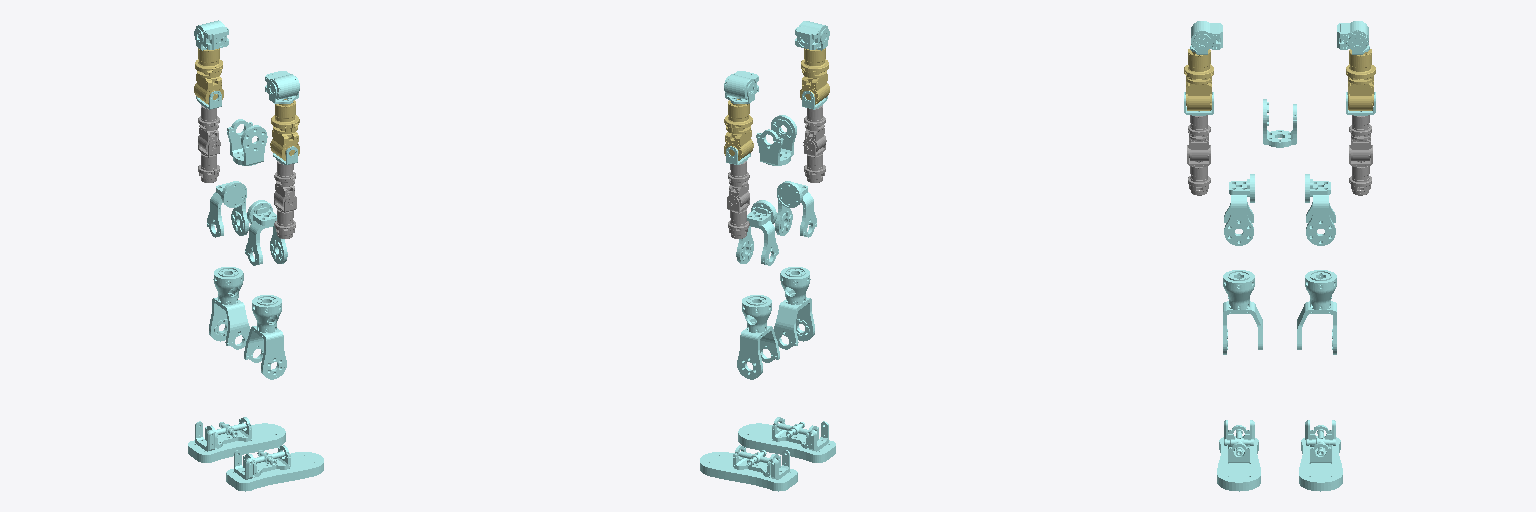
--- Render facts (derived) ---
The picture shows the robot from 3 angles, left to right: view 1: azimuth 30°, elevation 25°; view 2: azimuth 150°, elevation 25°; view 3: azimuth 270°, elevation 25°; orthographic projection.
Robot: ymboy-23dof — 25 links, 24 joints (23 revolute, 1 fixed); root link pelvis; default pose: every joint at zero.
Links seen in each view (by area): view 1: right_ankle_roll_link, left_ankle_roll_link, right_hip_yaw_link, left_hip_yaw_link, left_hip_pitch_link, right_hip_pitch_link, right_wrist_yaw_link, left_wrist_yaw_link, waist_yaw_link, right_shoulder_yaw_link, left_shoulder_yaw_link, right_shoulder_pitch_link (+1 smaller); view 2: left_ankle_roll_link, right_ankle_roll_link, left_hip_yaw_link, right_hip_yaw_link, right_hip_pitch_link, left_hip_pitch_link, left_wrist_yaw_link, waist_yaw_link, right_wrist_yaw_link, left_shoulder_yaw_link, right_shoulder_yaw_link, right_shoulder_pitch_link (+1 smaller); view 3: left_ankle_roll_link, right_ankle_roll_link, left_hip_yaw_link, right_hip_yaw_link, left_hip_pitch_link, right_hip_pitch_link, left_wrist_yaw_link, right_wrist_yaw_link, left_shoulder_yaw_link, right_shoulder_yaw_link, waist_yaw_link, left_shoulder_pitch_link (+1 smaller).
Link boxes in pixels (<box>): right_ankle_roll_link: <box>226,445,323,491</box>; left_ankle_roll_link: <box>188,417,285,462</box>; right_hip_yaw_link: <box>244,295,286,379</box>; left_hip_yaw_link: <box>209,267,249,349</box>; left_hip_pitch_link: <box>207,181,248,237</box>; right_hip_pitch_link: <box>245,200,287,265</box>; right_wrist_yaw_link: <box>274,161,296,238</box>; left_wrist_yaw_link: <box>198,105,220,182</box>; waist_yaw_link: <box>227,119,267,165</box>; right_shoulder_yaw_link: <box>270,99,299,160</box>; left_shoulder_yaw_link: <box>194,48,223,104</box>; right_shoulder_pitch_link: <box>265,71,298,99</box>; left_ankle_roll_link: <box>700,445,797,491</box>; right_ankle_roll_link: <box>738,417,835,462</box>; left_hip_yaw_link: <box>737,295,779,379</box>; right_hip_yaw_link: <box>774,267,814,349</box>; right_hip_pitch_link: <box>775,181,816,237</box>; left_hip_pitch_link: <box>736,200,778,265</box>; left_wrist_yaw_link: <box>727,161,749,238</box>; waist_yaw_link: <box>756,115,796,165</box>; right_wrist_yaw_link: <box>803,105,826,182</box>; left_shoulder_yaw_link: <box>724,99,753,160</box>; right_shoulder_yaw_link: <box>800,48,829,104</box>; right_shoulder_pitch_link: <box>795,21,827,49</box>; left_ankle_roll_link: <box>1299,420,1342,491</box>; right_ankle_roll_link: <box>1217,420,1260,491</box>; left_hip_yaw_link: <box>1297,270,1336,354</box>; right_hip_yaw_link: <box>1223,270,1262,354</box>; left_hip_pitch_link: <box>1305,174,1335,245</box>; right_hip_pitch_link: <box>1224,174,1254,245</box>; left_wrist_yaw_link: <box>1349,115,1372,195</box>; right_wrist_yaw_link: <box>1187,115,1210,195</box>; left_shoulder_yaw_link: <box>1346,49,1375,110</box>; right_shoulder_yaw_link: <box>1184,49,1213,110</box>; waist_yaw_link: <box>1263,99,1296,147</box>; left_shoulder_pitch_link: <box>1337,21,1368,49</box>.
Bounding box of the posed robot: 0.248 × 0.4335 × 1.09 m (x, y, z).
19 mesh visuals loaded from 25 distinct referenced files (19 binary STL); not drawn: 6 (reference not matched to a file when rendering).

robot.urdf — ymboy-23dof:
<?xml version="1.0" encoding="utf-8"?>
<robot
  name="ymboy-23dof">
  <!-- <mujoco>
    <compiler meshdir="../meshes" discardvisual="false"/>
  </mujoco>

  <link name="base_footprint_link" />
  <joint name="base_footprint_joint" type="floating">
    <parent link="base_footprint_link" />
    <child link="pelvis" />
    <origin xyz="0 0 0" rpy="0 0 0"/>
  </joint> -->
  <link
    name="pelvis">
    <inertial>
      <origin
        xyz="-3.3339E-05 -1.0813E-06 0.091155"
        rpy="0 0 0" />
      <mass
        value="2.8438" />
      <inertia
        ixx="0.01047867"
        ixy="-8E-08"
        ixz="3.95E-06"
        iyy="0.00941324"
        iyz="1.3E-07"
        izz="0.00564707" />
    </inertial>
    <visual>
      <origin
        xyz="0 0 0"
        rpy="0 0 0" />
      <geometry>
        <mesh
          filename="../meshes/pelvis.STL" />
      </geometry>
      <material
        name="">
        <color
          rgba="0.75294 1 1 1" />
      </material>
    </visual>
    <collision>
      <origin
        xyz="0 0 0"
        rpy="0 0 0" />
      <geometry>
        <mesh
          filename="../meshes/pelvis.STL" />
      </geometry>
    </collision>
  </link>
  <link
    name="left_hip_pitch_link">
    <inertial>
      <origin
        xyz="0.0026859 0.030181 -0.038307"
        rpy="0 0 0" />
      <mass
        value="0.47307" />
      <inertia
        ixx="0.00092108"
        ixy="-8.03E-06"
        ixz="8.425E-05"
        iyy="0.00111312"
        iyz="0.0001145"
        izz="0.00048142" />
    </inertial>
    <visual>
      <origin
        xyz="0 0 0"
        rpy="0 0 0" />
      <geometry>
        <mesh
          filename="../meshes/left_hip_pitch_link.STL" />
      </geometry>
      <material
        name="">
        <color
          rgba="0.75294 1 1 1" />
      </material>
    </visual>
    <collision>
      <origin
        xyz="0 0 0"
        rpy="0 0 0" />
      <geometry>
        <mesh
          filename="../meshes/left_hip_pitch_link.STL" />
      </geometry>
    </collision>
  </link>
  <joint
    name="left_hip_pitch_joint"
    type="revolute">
    <origin
      xyz="0 0.056 0.0605"
      rpy="0 0 0" />
    <parent
      link="pelvis" />
    <child
      link="left_hip_pitch_link" />
    <axis
      xyz="0 1 0" />
    <limit
      lower="-2.5"
      upper="2.5"
      effort="94"
      velocity="14" />
  </joint>
  <link
    name="left_hip_roll_link">
    <inertial>
      <origin
        xyz="0.00077985 -7.5152E-06 -0.043617"
        rpy="0 0 0" />
      <mass
        value="1.7024" />
      <inertia
        ixx="0.00593201"
        ixy="-2.4E-07"
        ixz="7.611E-05"
        iyy="0.00560799"
        iyz="-2.1E-07"
        izz="0.00196237" />
    </inertial>
    <visual>
      <origin
        xyz="0 0 0"
        rpy="0 0 0" />
      <geometry>
        <mesh
          filename="../meshes/left_hip_roll_link.STL" />
      </geometry>
      <material
        name="">
        <color
          rgba="0.69804 0.69804 0.69804 1" />
      </material>
    </visual>
    <collision>
      <origin
        xyz="0 0 0"
        rpy="0 0 0" />
      <geometry>
        <mesh
          filename="../meshes/left_hip_roll_link.STL" />
      </geometry>
    </collision>
  </link>
  <joint
    name="left_hip_roll_joint"
    type="revolute">
    <origin
      xyz="0 0.0365 -0.092"
      rpy="0 0 0" />
    <parent
      link="left_hip_pitch_link" />
    <child
      link="left_hip_roll_link" />
    <axis
      xyz="1 0 0" />
    <limit
      lower="-0.5"
      upper="2.5"
      effort="94"
      velocity="14" />
  </joint>
  <link
    name="left_hip_yaw_link">
    <inertial>
      <origin
        xyz="0 -0.00015530 -0.13796729"
        rpy="0 0 0" />
      <mass
        value="2.07306400" />
      <inertia
        ixx="0.00653494"
        ixy="-0.00000002"
        ixz="0.00000002"
        iyy="0.00728062"
        iyz="0.00004153"
        izz="0.00248648" />
    </inertial>
    <visual>
      <origin
        xyz="0 0 0"
        rpy="0 0 0" />
      <geometry>
        <mesh
          filename="../meshes/left_hip_yaw_link.STL" />
      </geometry>
      <material
        name="">
        <color
          rgba="0.75294 1 1 1" />
      </material>
    </visual>
    <collision>
      <origin
        xyz="0 0 0"
        rpy="0 0 0" />
      <geometry>
        <mesh
          filename="../meshes/left_hip_yaw_link.STL" />
      </geometry>
    </collision>
  </link>
  <joint
    name="left_hip_yaw_joint"
    type="revolute">
    <origin
      xyz="0.00175 0 -0.1245"
      rpy="0 0 0" />
    <parent
      link="left_hip_roll_link" />
    <child
      link="left_hip_yaw_link" />
    <axis
      xyz="0 0 1" />
    <limit
      lower="-2.5"
      upper="2.5"
      effort="60"
      velocity="14" />
  </joint>
  <link
    name="left_knee_link">
    <inertial>
      <origin
        xyz="-0.00490708 0.00049315 -0.15001952"
        rpy="0 0 0" />
      <mass
        value="1.48182604" />
      <inertia
        ixx="0.00527891"
        ixy="0.00003754"
        ixz="-0.00021876"
        iyy="0.00533391"
        iyz="-0.00019421"
        izz="0.00162094" />
    </inertial>
    <visual>
      <origin
        xyz="0 0 0"
        rpy="0 0 0" />
      <geometry>
        <mesh
          filename="../meshes/left_knee_link.STL" />
      </geometry>
      <material
        name="">
        <color
          rgba="0.69804 0.69804 0.69804 1" />
      </material>
    </visual>
    <collision>
      <origin
        xyz="0 0 0"
        rpy="0 0 0" />
      <geometry>
        <mesh
          filename="../meshes/left_knee_link.STL" />
      </geometry>
    </collision>
  </link>
  <joint
    name="left_knee_joint"
    type="revolute">
    <origin
      xyz="0 0 -0.1605"
      rpy="0 0 0" />
    <parent
      link="left_hip_yaw_link" />
    <child
      link="left_knee_link" />
    <axis
      xyz="0 1 0" />
    <limit
      lower="-2.5"
      upper="2.5"
      effort="150"
      velocity="13" />
  </joint>
  <link
    name="left_ankle_pitch_link">
    <inertial>
      <origin
        xyz="-1.1905E-08 -3.0215E-11 -7.7016E-10"
        rpy="0 0 0" />
      <mass
        value="0.023877" />
      <inertia
        ixx="9.56E-06"
        ixy="0"
        ixz="0"
        iyy="6.2E-07"
        iyz="0"
        izz="9.58E-06" />
    </inertial>
    <visual>
      <origin
        xyz="0 0 0"
        rpy="0 0 0" />
      <geometry>
        <mesh
          filename="../meshes/left_ankle_pitch_link.STL" />
      </geometry>
      <material
        name="">
        <color
          rgba="0.75294 1 1 1" />
      </material>
    </visual>
    <!-- <collision>
      <origin
        xyz="0 0 0"
        rpy="0 0 0" />
      <geometry>
        <mesh
          filename="../meshes/left_ankle_pitch_link.STL" />
      </geometry>
    </collision> -->
  </link>
  <joint
    name="left_ankle_pitch_joint"
    type="revolute">
    <origin
      xyz="-4.3311E-05 0 -0.257"
      rpy="0 0.00016853 0" />
    <parent
      link="left_knee_link" />
    <child
      link="left_ankle_pitch_link" />
    <axis
      xyz="0 1 0" />
    <limit
      lower="-0.55"
      upper="0.55"
      effort="60"
      velocity="8" />
  </joint>
  <link
    name="left_ankle_roll_link">
    <inertial>
      <origin
        xyz="0.016184 -9.3563E-10 -0.033038"
        rpy="0 0 0" />
      <mass
        value="1.1614" />
      <inertia
        ixx="0.00090303"
        ixy="0"
        ixz="0.00023861"
        iyy="0.0053827"
        iyz="0"
        izz="0.00583125" />
    </inertial>
    <visual>
      <origin
        xyz="0 0 0"
        rpy="0 0 0" />
      <geometry>
        <mesh
          filename="../meshes/left_ankle_roll_link.STL" />
      </geometry>
      <material
        name="">
        <color
          rgba="0.75294 1 1 1" />
      </material>
    </visual>
    <!-- <collision>
      <origin
        xyz="0 0 0"
        rpy="0 0 0" />
      <geometry>
        <mesh
          filename="../meshes/left_ankle_roll_link.STL" />
      </geometry>
    </collision> -->
    <collision>
      <origin xyz="-0.05 0.05 -0.04" rpy="0 0 0"/>
      <geometry>
        <sphere radius="0.005"/>
      </geometry>
    </collision>
    <collision>
      <origin xyz="-0.05 -0.05 -0.04" rpy="0 0 0"/>
      <geometry>
        <sphere radius="0.005"/>
      </geometry>
    </collision>
    <collision>
      <origin xyz="0.12 0.055 -0.04" rpy="0 0 0"/>
      <geometry>
        <sphere radius="0.005"/>
      </geometry>
    </collision>
    <collision>
      <origin xyz="0.12 -0.055 -0.04" rpy="0 0 0"/>
      <geometry>
        <sphere radius="0.005"/>
      </geometry>
    </collision>
    <collision>
      <origin xyz="0.05 -0.06 -0.04" rpy="0 0 0"/>
      <geometry>
        <sphere radius="0.005"/>
      </geometry>
    </collision>
    <collision>
      <origin xyz="0.05 0.06 -0.04" rpy="0 0 0"/>
      <geometry>
        <sphere radius="0.005"/>
      </geometry>
    </collision>

    <collision>
      <origin xyz="0.14 -0.0 -0.04" rpy="0 0 0"/>
      <geometry>
        <sphere radius="0.005"/>
      </geometry>
    </collision>
    <collision>
      <origin xyz="-0.11 -0.0 -0.04" rpy="0 0 0"/>
      <geometry>
        <sphere radius="0.005"/>
      </geometry>
    </collision>
    <collision>
      <origin xyz="0.1 -0.0 -0.02" rpy="0 0 0"/>
      <geometry>
        <sphere radius="0.005"/>
      </geometry>
    </collision>

    <collision>
      <origin xyz="0.165 -0.0 -0.04" rpy="0 0 0"/>
      <geometry>
        <sphere radius="0.005"/>
      </geometry>
    </collision>
  </link>
  <joint
    name="left_ankle_roll_joint"
    type="revolute">
    <origin
      xyz="0 0 0"
      rpy="0 0 0" />
    <parent
      link="left_ankle_pitch_link" />
    <child
      link="left_ankle_roll_link" />
    <axis
      xyz="1 0 0" />
    <limit
      lower="-0.25"
      upper="0.25"
      effort="60"
      velocity="8" />
  </joint>
  <link
    name="right_hip_pitch_link">
    <inertial>
      <origin
        xyz="0.0026859 -0.030181 -0.038307"
        rpy="0 0 0" />
      <mass
        value="0.47307" />
      <inertia
        ixx="0.00092108"
        ixy="8.03E-06"
        ixz="8.425E-05"
        iyy="0.00111312"
        iyz="-0.0001145"
        izz="0.00048142" />
    </inertial>
    <visual>
      <origin
        xyz="0 0 0"
        rpy="0 0 0" />
      <geometry>
        <mesh
          filename="../meshes/right_hip_pitch_link.STL" />
      </geometry>
      <material
        name="">
        <color
          rgba="0.75294 1 1 1" />
      </material>
    </visual>
    <collision>
      <origin
        xyz="0 0 0"
        rpy="0 0 0" />
      <geometry>
        <mesh
          filename="../meshes/right_hip_pitch_link.STL" />
      </geometry>
    </collision>
  </link>
  <joint
    name="right_hip_pitch_joint"
    type="revolute">
    <origin
      xyz="0 -0.056 0.0605"
      rpy="0 0 0" />
    <parent
      link="pelvis" />
    <child
      link="right_hip_pitch_link" />
    <axis
      xyz="0 1 0" />
    <limit
      lower="-2.5"
      upper="2.5"
      effort="94"
      velocity="14" />
  </joint>
  <link
    name="right_hip_roll_link">
    <inertial>
      <origin
        xyz="0.00077985 -7.5152E-06 -0.043617"
        rpy="0 0 0" />
      <mass
        value="1.7024" />
      <inertia
        ixx="0.00593201"
        ixy="-2.4E-07"
        ixz="7.611E-05"
        iyy="0.00560799"
        iyz="-2.1E-07"
        izz="0.00196237" />
    </inertial>
    <visual>
      <origin
        xyz="0 0 0"
        rpy="0 0 0" />
      <geometry>
        <mesh
          filename="../meshes/right_hip_roll_link.STL" />
      </geometry>
      <material
        name="">
        <color
          rgba="0.75294 1 1 1" />
      </material>
    </visual>
    <collision>
      <origin
        xyz="0 0 0"
        rpy="0 0 0" />
      <geometry>
        <mesh
          filename="../meshes/right_hip_roll_link.STL" />
      </geometry>
    </collision>
  </link>
  <joint
    name="right_hip_roll_joint"
    type="revolute">
    <origin
      xyz="0 -0.0365 -0.092"
      rpy="0 0 0" />
    <parent
      link="right_hip_pitch_link" />
    <child
      link="right_hip_roll_link" />
    <axis
      xyz="1 0 0" />
    <limit
      lower="-2.5"
      upper="0.5"
      effort="94"
      velocity="14" />
  </joint>
  <link
    name="right_hip_yaw_link">
    <inertial>
      <origin
        xyz="0 0.00015530 -0.13796729"
        rpy="0 0 0" />
      <mass
        value="2.07306400" />
      <inertia
        ixx="0.00653494"
        ixy="-0.00000002"
        ixz="-0.00000002"
        iyy="0.00728062"
        iyz="-0.00004153"
        izz="0.00248648" />
    </inertial>
    <visual>
      <origin
        xyz="0 0 0"
        rpy="0 0 0" />
      <geometry>
        <mesh
          filename="../meshes/right_hip_yaw_link.STL" />
      </geometry>
      <material
        name="">
        <color
          rgba="0.75294 1 1 1" />
      </material>
    </visual>
    <collision>
      <origin
        xyz="0 0 0"
        rpy="0 0 0" />
      <geometry>
        <mesh
          filename="../meshes/right_hip_yaw_link.STL" />
      </geometry>
    </collision>
  </link>
  <joint
    name="right_hip_yaw_joint"
    type="revolute">
    <origin
      xyz="0.00175 0 -0.1245"
      rpy="0 0 0" />
    <parent
      link="right_hip_roll_link" />
    <child
      link="right_hip_yaw_link" />
    <axis
      xyz="0 0 1" />
    <limit
      lower="-2.5"
      upper="2.5"
      effort="60"
      velocity="13" />
  </joint>
  <link
    name="right_knee_link">
    <inertial>
      <origin
        xyz="-0.00490708 -0.00049315 -0.15001574"
        rpy="0 0 0" />
      <mass
        value="1.48182604" />
      <inertia
        ixx="0.00527890"
        ixy="-0.00003761"
        ixz="-0.00021847"
        iyy="0.00533386"
        iyz="0.00019420"
        izz="0.00162092" />
    </inertial>
    <visual>
      <origin
        xyz="0 0 0"
        rpy="0 0 0" />
      <geometry>
        <mesh
          filename="../meshes/right_knee_link.STL" />
      </geometry>
      <material
        name="">
        <color
          rgba="0.69804 0.69804 0.69804 1" />
      </material>
    </visual>
    <collision>
      <origin
        xyz="0 0 0"
        rpy="0 0 0" />
      <geometry>
        <mesh
          filename="../meshes/right_knee_link.STL" />
      </geometry>
    </collision>
  </link>
  <joint
    name="right_knee_joint"
    type="revolute">
    <origin
      xyz="0 0 -0.1605"
      rpy="0 0 0" />
    <parent
      link="right_hip_yaw_link" />
    <child
      link="right_knee_link" />
    <axis
      xyz="0 1 0" />
    <limit
      lower="-2.5"
      upper="2.5"
      effort="150"
      velocity="13" />
  </joint>
  <link
    name="right_ankle_pitch_link">
    <inertial>
      <origin
        xyz="-1.1905E-08 -3.0218E-11 -7.7016E-10"
        rpy="0 0 0" />
      <mass
        value="0.023877" />
      <inertia
        ixx="9.56E-06"
        ixy="0"
        ixz="0"
        iyy="6.2E-07"
        iyz="0"
        izz="9.58E-06" />
    </inertial>
    <visual>
      <origin
        xyz="0 0 0"
        rpy="0 0 0" />
      <geometry>
        <mesh
          filename="../meshes/right_ankle_pitch_link.STL" />
      </geometry>
      <material
        name="">
        <color
          rgba="0.75294 1 1 1" />
      </material>
    </visual>
    <!-- <collision>
      <origin
        xyz="0 0 0"
        rpy="0 0 0" />
      <geometry>
        <mesh
          filename="../meshes/right_ankle_pitch_link.STL" />
      </geometry>
    </collision> -->
  </link>
  <joint
    name="right_ankle_pitch_joint"
    type="revolute">
    <origin
      xyz="-4.3311E-05 0 -0.257"
      rpy="0 0.00016853 0" />
    <parent
      link="right_knee_link" />
    <child
      link="right_ankle_pitch_link" />
    <axis
      xyz="0 1 0" />
    <limit
      lower="-0.55"
      upper="0.55"
      effort="60"
      velocity="8" />
  </joint>
  <link
    name="right_ankle_roll_link">
    <inertial>
      <origin
        xyz="0.016184 -9.3564E-10 -0.033038"
        rpy="0 0 0" />
      <mass
        value="1.1614" />
      <inertia
        ixx="0.00090303"
        ixy="0"
        ixz="0.00023861"
        iyy="0.0053827"
        iyz="0"
        izz="0.00583125" />
    </inertial>
    <visual>
      <origin
        xyz="0 0 0"
        rpy="0 0 0" />
      <geometry>
        <mesh
          filename="../meshes/right_ankle_roll_link.STL" />
      </geometry>
      <material
        name="">
        <color
          rgba="0.75294 1 1 1" />
      </material>
    </visual>
    <!-- <collision>
      <origin
        xyz="0 0 0"
        rpy="0 0 0" />
      <geometry>
        <mesh
          filename="../meshes/right_ankle_roll_link.STL" />
      </geometry>
    </collision> -->
    <collision>
      <origin xyz="-0.05 0.05 -0.04" rpy="0 0 0"/>
      <geometry>
        <sphere radius="0.005"/>
      </geometry>
    </collision>
    <collision>
      <origin xyz="-0.05 -0.05 -0.04" rpy="0 0 0"/>
      <geometry>
        <sphere radius="0.005"/>
      </geometry>
    </collision>
    <collision>
      <origin xyz="0.12 0.055 -0.04" rpy="0 0 0"/>
      <geometry>
        <sphere radius="0.005"/>
      </geometry>
    </collision>
    <collision>
      <origin xyz="0.12 -0.055 -0.04" rpy="0 0 0"/>
      <geometry>
        <sphere radius="0.005"/>
      </geometry>
    </collision>
    <collision>
      <origin xyz="0.05 -0.06 -0.04" rpy="0 0 0"/>
      <geometry>
        <sphere radius="0.005"/>
      </geometry>
    </collision>
    <collision>
      <origin xyz="0.05 0.06 -0.04" rpy="0 0 0"/>
      <geometry>
        <sphere radius="0.005"/>
      </geometry>
    </collision>

    <collision>
      <origin xyz="0.14 -0.0 -0.04" rpy="0 0 0"/>
      <geometry>
        <sphere radius="0.005"/>
      </geometry>
    </collision>
    <collision>
      <origin xyz="-0.11 -0.0 -0.04" rpy="0 0 0"/>
      <geometry>
        <sphere radius="0.005"/>
      </geometry>
    </collision>
    <collision>
      <origin xyz="0.1 -0.0 -0.02" rpy="0 0 0"/>
      <geometry>
        <sphere radius="0.005"/>
      </geometry>
    </collision>

    <collision>
      <origin xyz="0.165 -0.0 -0.04" rpy="0 0 0"/>
      <geometry>
        <sphere radius="0.005"/>
      </geometry>
    </collision>
  </link>
  <joint
    name="right_ankle_roll_joint"
    type="revolute">
    <origin
      xyz="0 0 0"
      rpy="0 0 0" />
    <parent
      link="right_ankle_pitch_link" />
    <child
      link="right_ankle_roll_link" />
    <axis
      xyz="1 0 0" />
    <limit
      lower="-0.25"
      upper="0.25"
      effort="60"
      velocity="8" />
  </joint>
  <link
    name="waist_yaw_link">
    <inertial>
      <origin
        xyz="-8.6742E-09 -0.0035731 0.038467"
        rpy="0 0 0" />
      <mass
        value="0.33855" />
      <inertia
        ixx="0.00059365"
        ixy="0"
        ixz="0"
        iyy="0.00038188"
        iyz="5.297E-05"
        izz="0.00041589" />
    </inertial>
    <visual>
      <origin
        xyz="0 0 0"
        rpy="0 0 0" />
      <geometry>
        <mesh
          filename="../meshes/waist_yaw_link.STL" />
      </geometry>
      <material
        name="">
        <color
          rgba="0.75294 1 1 1" />
      </material>
    </visual>
    <collision>
      <origin
        xyz="0 0 0"
        rpy="0 0 0" />
      <geometry>
        <mesh
          filename="../meshes/waist_yaw_link.STL" />
      </geometry>
    </collision>
  </link>
  <joint
    name="waist_yaw_joint"
    type="revolute">
    <origin
      xyz="0 0 0.177"
      rpy="0 0 0" />
    <parent
      link="pelvis" />
    <child
      link="waist_yaw_link" />
    <axis
      xyz="0 0 1" />
    <limit
      lower="-2.5"
      upper="2.5"
      effort="94"
      velocity="14" />
  </joint>
  <link
    name="torso_link">
    <inertial>
      <origin
        xyz="-0.0028374 1.8764E-05 0.11742"
        rpy="0 0 0" />
      <mass
        value="8.4343" />
      <inertia
        ixx="0.05386501"
        ixy="5.861E-05"
        ixz="-0.00096421"
        iyy="0.04829131"
        iyz="-0.00014315"
        izz="0.03221841" />
    </inertial>
    <visual>
      <origin
        xyz="0 0 0"
        rpy="0 0 0" />
      <geometry>
        <mesh
          filename="../meshes/torso_link.STL" />
      </geometry>
      <material
        name="">
        <color
          rgba="0.69804 0.69804 0.69804 1" />
      </material>
    </visual>
    <collision>
      <origin
        xyz="0 0 0"
        rpy="0 0 0" />
      <geometry>
        <mesh
          filename="../meshes/torso_link.STL" />
      </geometry>
    </collision>
  </link>
  <joint
    name="waist_pitch_joint"
    type="fixed">
    <origin
      xyz="0 0 0.069"
      rpy="0 0 0" />
    <parent
      link="waist_yaw_link" />
    <child
      link="torso_link" />
    <axis
      xyz="0 1 0" />
    <limit
      lower="-1.57"
      upper="1.57"
      effort="94"
      velocity="14" />
  </joint>
  <link
    name="left_shoulder_pitch_link">
    <inertial>
      <origin
        xyz="0.021414 0.043756 -7.7846E-11"
        rpy="0 0 0" />
      <mass
        value="0.48864" />
      <inertia
        ixx="0.00016103"
        ixy="-3.426E-05"
        ixz="0"
        iyy="9.344E-05"
        iyz="0"
        izz="0.00014485" />
    </inertial>
    <visual>
      <origin
        xyz="0 0 0"
        rpy="0 0 0" />
      <geometry>
        <mesh
          filename="../meshes/left_shoulder_pitch_link.STL" />
      </geometry>
      <material
        name="">
        <color
          rgba="0.75294 1 1 1" />
      </material>
    </visual>
    <collision>
      <origin
        xyz="0 0 0"
        rpy="0 0 0" />
      <geometry>
        <mesh
          filename="../meshes/left_shoulder_pitch_link.STL" />
      </geometry>
    </collision>
  </link>
  <joint
    name="left_shoulder_pitch_joint"
    type="revolute">
    <origin
      xyz="0 0.12875 0.1945"
      rpy="0 0 0" />
    <parent
      link="torso_link" />
    <child
      link="left_shoulder_pitch_link" />
    <axis
      xyz="0 1 0" />
    <limit
      lower="-3"
      upper="3"
      effort="12"
      velocity="5" />
  </joint>
  <link
    name="left_shoulder_roll_link">
    <inertial>
      <origin
        xyz="2.2968E-15 0.0016422 -0.019214"
        rpy="0 0 0" />
      <mass
        value="0.053968" />
      <inertia
        ixx="1.8069E-05"
        ixy="2.8391E-20"
        ixz="1.641E-20"
        iyy="4.6417E-05"
        iyz="-9.6777E-07"
        izz="4.1079E-05" />
    </inertial>
    <visual>
      <origin
        xyz="0 0 0"
        rpy="0 0 0" />
      <geometry>
        <mesh
          filename="../meshes/left_shoulder_roll_link.STL" />
      </geometry>
      <material
        name="">
        <color
          rgba="0.75294 1 1 1" />
      </material>
    </visual>
    <collision>
      <origin
        xyz="0 0 0"
        rpy="0 0 0" />
      <geometry>
        <mesh
          filename="../meshes/left_shoulder_roll_link.STL" />
      </geometry>
    </collision>
  </link>
  <joint
    name="left_shoulder_roll_joint"
    type="revolute">
    <origin
      xyz="0 0.047 0"
      rpy="0 0 0" />
    <parent
      link="left_shoulder_pitch_link" />
    <child
      link="left_shoulder_roll_link" />
    <axis
      xyz="1 0 0" />
    <limit
      lower="-0.1"
      upper="3.14"
      effort="12"
      velocity="5" />
  </joint>
  <link
    name="left_shoulder_yaw_link">
    <inertial>
      <origin
        xyz="2.3458E-05 0.010492 -0.079775"
        rpy="0 0 0" />
      <mass
        value="0.99729" />
      <inertia
        ixx="0.00221488"
        ixy="2.4E-07"
        ixz="-6.2E-07"
        iyy="0.00211341"
        iyz="0.00046727"
        izz="0.00040755" />
    </inertial>
    <visual>
      <origin
        xyz="0 0 0"
        rpy="0 0 0" />
      <geometry>
        <mesh
          filename="../meshes/left_shoulder_yaw_link.STL" />
      </geometry>
      <material
        name="">
        <color
          rgba="0.8549 0.80392 0.52941 1" />
      </material>
    </visual>
    <collision>
      <origin
        xyz="0 0 0"
        rpy="0 0 0" />
      <geometry>
        <mesh
          filename="../meshes/left_shoulder_yaw_link.STL" />
      </geometry>
    </collision>
  </link>
  <joint
    name="left_shoulder_yaw_joint"
    type="revolute">
    <origin
      xyz="0 0.007 -0.033"
      rpy="0 0 0" />
    <parent
      link="left_shoulder_roll_link" />
    <child
      link="left_shoulder_yaw_link" />
    <axis
      xyz="0 0 1" />
    <limit
      lower="-3"
      upper="3"
      effort="12"
      velocity="5" />
  </joint>
  <link
    name="left_elbow_link">
    <inertial>
      <origin
        xyz="0 8.3267E-17 -0.02168"
        rpy="0 0 0" />
      <mass
        value="0.047607" />
      <inertia
        ixx="3.565E-05"
        ixy="3.661E-21"
        ixz="3.9684E-21"
        iyy="1.1477E-05"
        iyz="6.8173E-20"
        izz="3.3394E-05" />
    </inertial>
    <visual>
      <origin
        xyz="0 0 0"
        rpy="0 0 0" />
      <geometry>
        <mesh
          filename="../meshes/left_elbow_link.STL" />
      </geometry>
      <material
        name="">
        <color
          rgba="0.75294 1 1 1" />
      </material>
    </visual>
    <collision>
      <origin
        xyz="0 0 0"
        rpy="0 0 0" />
      <geometry>
        <mesh
          filename="../meshes/left_elbow_link.STL" />
      </geometry>
    </collision>
  </link>
  <joint
    name="left_elbow_joint"
    type="revolute">
    <origin
      xyz="0 0 -0.1244"
      rpy="0 0 0" />
    <parent
      link="left_shoulder_yaw_link" />
    <child
      link="left_elbow_link" />
    <axis
      xyz="0 1 0" />
    <limit
      lower="-2"
      upper="2"
      effort="12"
      velocity="5" />
  </joint>
  <link
    name="left_wrist_yaw_link">
    <inertial>
      <origin
        xyz="-1.211E-08 0.0015412 -0.095114"
        rpy="0 0 0" />
      <mass
        value="0.74918" />
      <inertia
        ixx="0.00235166"
        ixy="0"
        ixz="1.17E-06"
        iyy="0.00234442"
        iyz="6.14E-06"
        izz="0.00018441" />
    </inertial>
    <visual>
      <origin
        xyz="0 0 0"
        rpy="0 0 0" />
      <geometry>
        <mesh
          filename="../meshes/left_wrist_yaw_link.STL" />
      </geometry>
      <material
        name="">
        <color
          rgba="0.69804 0.69804 0.69804 1" />
      </material>
    </visual>
    <collision>
      <origin
        xyz="0 0 0"
        rpy="0 0 0" />
      <geometry>
        <mesh
          filename="../meshes/left_wrist_yaw_link.STL" />
      </geometry>
    </collision>
  </link>
  <joint
    name="left_wrist_yaw_joint"
    type="revolute">
    <origin
      xyz="0 0 -0.034"
      rpy="0 0 0" />
    <parent
      link="left_elbow_link" />
    <child
      link="left_wrist_yaw_link" />
    <axis
      xyz="0 0 1" />
    <limit
      lower="-3"
      upper="3"
      effort="6"
      velocity="5" />
  </joint>
  <link
    name="right_shoulder_pitch_link">
    <inertial>
      <origin
        xyz="-0.021414 -0.043756 -7.7846E-11"
        rpy="0 0 0" />
      <mass
        value="0.48864" />
      <inertia
        ixx="0.00016103"
        ixy="-3.426E-05"
        ixz="0"
        iyy="9.344E-05"
        iyz="0"
        izz="0.00014485" />
    </inertial>
    <visual>
      <origin
        xyz="0 0 0"
        rpy="0 0 0" />
      <geometry>
        <mesh
          filename="../meshes/right_shoulder_pitch_link.STL" />
      </geometry>
      <material
        name="">
        <color
          rgba="0.75294 1 1 1" />
      </material>
    </visual>
    <collision>
      <origin
        xyz="0 0 0"
        rpy="0 0 0" />
      <geometry>
        <mesh
          filename="../meshes/right_shoulder_pitch_link.STL" />
      </geometry>
    </collision>
  </link>
  <joint
    name="right_shoulder_pitch_joint"
    type="revolute">
    <origin
      xyz="0 -0.12875 0.1945"
      rpy="0 0 0" />
    <parent
      link="torso_link" />
    <child
      link="right_shoulder_pitch_link" />
    <axis
      xyz="0 1 0" />
     <limit
      lower="-3"
      upper="3"
      effort="12"
      velocity="5" />
  </joint>
  <link
    name="right_shoulder_roll_link">
    <inertial>
      <origin
        xyz="1.1102E-16 -0.0016422 -0.019214"
        rpy="0 0 0" />
      <mass
        value="0.053968" />
      <inertia
        ixx="1.8069E-05"
        ixy="1.0344E-21"
        ixz="6.3703E-20"
        iyy="4.6417E-05"
        iyz="9.6777E-07"
        izz="4.1079E-05" />
    </inertial>
    <visual>
      <origin
        xyz="0 0 0"
        rpy="0 0 0" />
      <geometry>
        <mesh
          filename="../meshes/right_shoulder_roll_link.STL" />
      </geometry>
      <material
        name="">
        <color
          rgba="0.75294 1 1 1" />
      </material>
    </visual>
    <collision>
      <origin
        xyz="0 0 0"
        rpy="0 0 0" />
      <geometry>
        <mesh
          filename="../meshes/right_shoulder_roll_link.STL" />
      </geometry>
    </collision>
  </link>
  <joint
    name="right_shoulder_roll_joint"
    type="revolute">
    <origin
      xyz="0 -0.047 0"
      rpy="0 0 0" />
    <parent
      link="right_shoulder_pitch_link" />
    <child
      link="right_shoulder_roll_link" />
    <axis
      xyz="1 0 0" />
    <limit
      lower="-3.14"
      upper="0.1"
      effort="12"
      velocity="5" />
  </joint>
  <link
    name="right_shoulder_yaw_link">
    <inertial>
      <origin
        xyz="-2.3457E-05 0.010492 -0.079775"
        rpy="0 0 0" />
      <mass
        value="0.99729" />
      <inertia
        ixx="0.00221488"
        ixy="-2.5E-07"
        ixz="6.2E-07"
        iyy="0.00211341"
        iyz="0.00046727"
        izz="0.00040755" />
    </inertial>
    <visual>
      <origin
        xyz="0 0 0"
        rpy="0 0 0" />
      <geometry>
        <mesh
          filename="../meshes/right_shoulder_yaw_link.STL" />
      </geometry>
      <material
        name="">
        <color
          rgba="0.8549 0.80392 0.52941 1" />
      </material>
    </visual>
    <collision>
      <origin
        xyz="0 0 0"
        rpy="0 0 0" />
      <geometry>
        <mesh
          filename="../meshes/right_shoulder_yaw_link.STL" />
      </geometry>
    </collision>
  </link>
  <joint
    name="right_shoulder_yaw_joint"
    type="revolute">
    <origin
      xyz="0 -0.007 -0.033"
      rpy="0 0 0" />
    <parent
      link="right_shoulder_roll_link" />
    <child
      link="right_shoulder_yaw_link" />
    <axis
      xyz="0 0 1" />
    <limit
      lower="-3"
      upper="3"
      effort="12"
      velocity="5" />
  </joint>
  <link
    name="right_elbow_link">
    <inertial>
      <origin
        xyz="-4.8572E-17 0 -0.02168"
        rpy="0 0 0" />
      <mass
        value="0.047607" />
      <inertia
        ixx="3.565E-05"
        ixy="1.3905E-21"
        ixz="3.189E-21"
        iyy="1.1477E-05"
        iyz="-1.6076E-20"
        izz="3.3394E-05" />
    </inertial>
    <visual>
      <origin
        xyz="0 0 0"
        rpy="0 0 0" />
      <geometry>
        <mesh
          filename="../meshes/right_elbow_link.STL" />
      </geometry>
      <material
        name="">
        <color
          rgba="0.75294 1 1 1" />
      </material>
    </visual>
    <collision>
      <origin
        xyz="0 0 0"
        rpy="0 0 0" />
      <geometry>
        <mesh
          filename="../meshes/right_elbow_link.STL" />
      </geometry>
    </collision>
  </link>
  <joint
    name="right_elbow_joint"
    type="revolute">
    <origin
      xyz="0 0 -0.1244"
      rpy="0 0 0" />
    <parent
      link="right_shoulder_yaw_link" />
    <child
      link="right_elbow_link" />
    <axis
      xyz="0 1 0" />
    <limit
      lower="-2"
      upper="2"
      effort="12"
      velocity="5" />
  </joint>
  <link
    name="right_wrist_yaw_link">
    <inertial>
      <origin
        xyz="-1.211E-08 0.0015412 -0.095114"
        rpy="0 0 0" />
      <mass
        value="0.74918" />
      <inertia
        ixx="0.00235166"
        ixy="0"
        ixz="1.17E-06"
        iyy="0.00234442"
        iyz="6.14E-06"
        izz="0.00018441" />
    </inertial>
    <visual>
      <origin
        xyz="0 0 0"
        rpy="0 0 0" />
      <geometry>
        <mesh
          filename="../meshes/right_wrist_yaw_link.STL" />
      </geometry>
      <material
        name="">
        <color
          rgba="0.69804 0.69804 0.69804 1" />
      </material>
    </visual>
    <collision>
      <origin
        xyz="0 0 0"
        rpy="0 0 0" />
      <geometry>
        <mesh
          filename="../meshes/right_wrist_yaw_link.STL" />
      </geometry>
    </collision>
  </link>
  <joint
    name="right_wrist_yaw_joint"
    type="revolute">
    <origin
      xyz="0 0 -0.034"
      rpy="0 0 0" />
    <parent
      link="right_elbow_link" />
    <child
      link="right_wrist_yaw_link" />
    <axis
      xyz="0 0 1" />
    <limit
      lower="-3"
      upper="3"
      effort="6"
      velocity="5" />
  </joint>

</robot>
